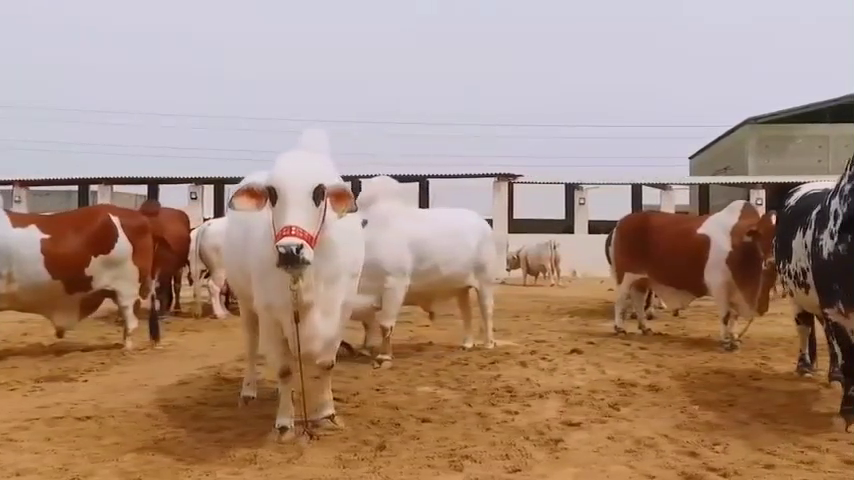bo: (218, 116, 366, 457), (345, 176, 506, 378), (603, 192, 780, 363), (2, 198, 160, 365), (779, 136, 854, 431), (132, 174, 193, 327), (184, 203, 233, 330), (503, 229, 570, 290)
